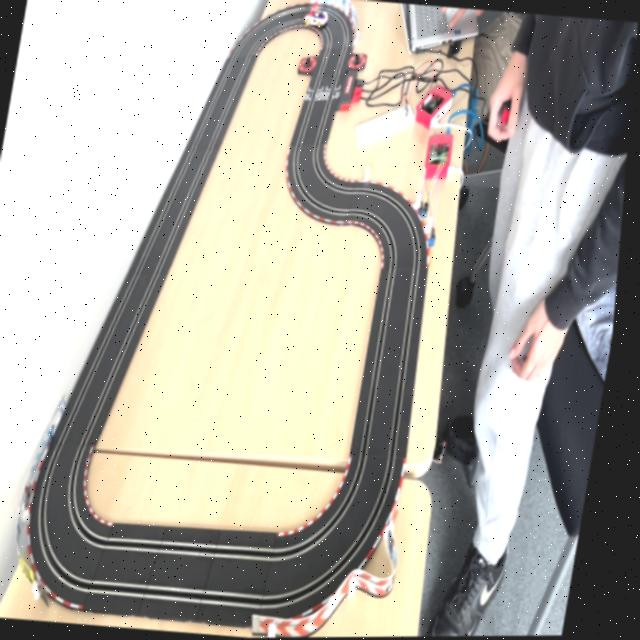mario: (302, 9, 331, 30)
